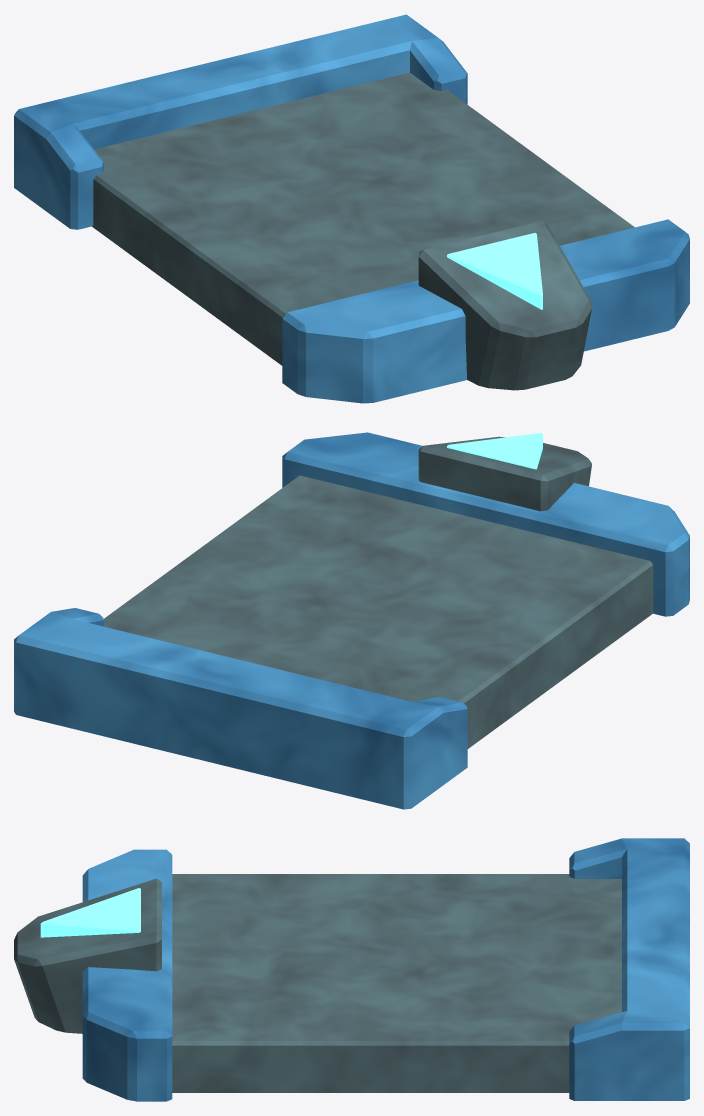
Rendered from blue_baseplate.glb.
3 renders of one model, top to bottom at view 1: azimuth 30°, elevation 25°; view 2: azimuth 150°, elevation 25°; view 3: azimuth 270°, elevation 25°, orthographic. The views are drawn at different scales.
Visible parts, largest first — view 1: BluePlate; view 2: BluePlate; view 3: BluePlate.
Boxes of the visible parts, x1,y1,x2,y2 form: BluePlate: (14,14,689,403); BluePlate: (14,432,689,809); BluePlate: (14,838,689,1101).
Bounding box in the file's own units: 0.9761 × 0.2441 × 1.47.
Materials: 1 (1 with a texture image).
